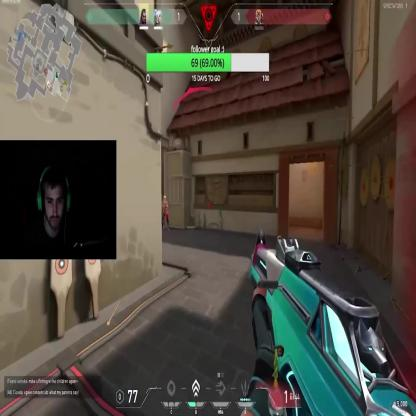enemy: (161, 194, 170, 232)
enemy_head: (163, 196, 166, 204)
